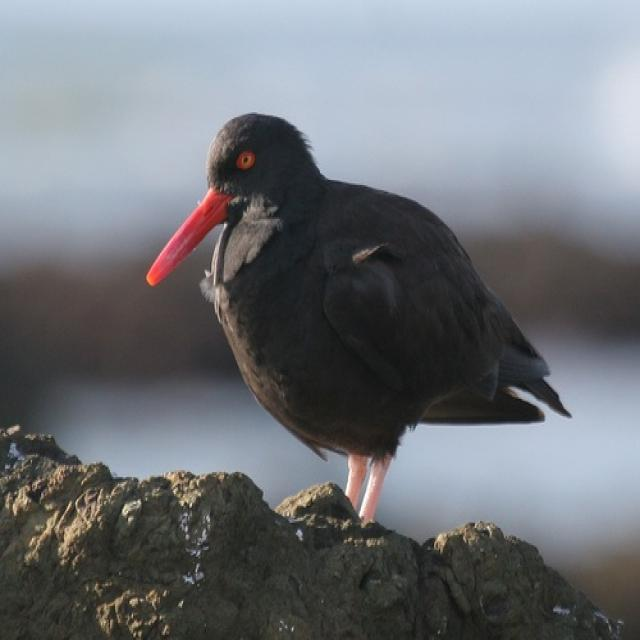bird: (145, 109, 574, 521)
